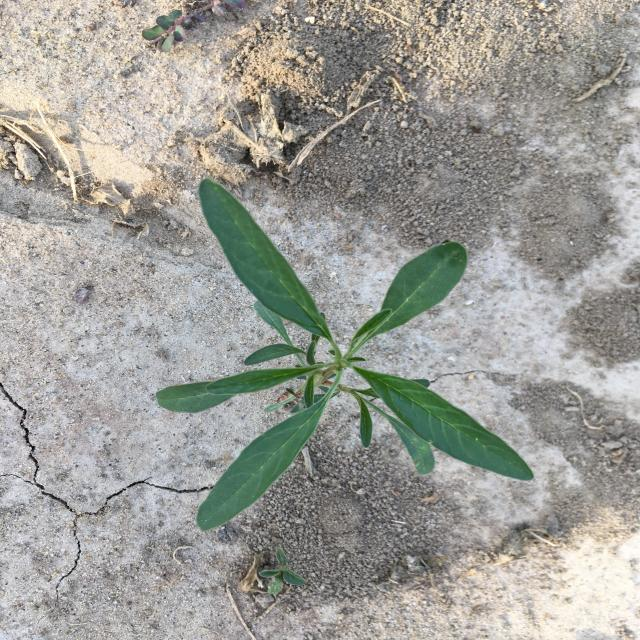Waterhemp: (156, 178, 534, 532), (258, 547, 307, 596)
